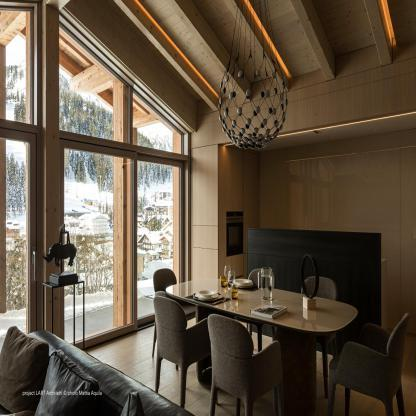chair: (334, 304, 416, 416), (202, 312, 288, 416), (149, 293, 205, 410), (144, 268, 181, 295)
door: (0, 132, 42, 332)
sofa: (0, 324, 199, 416)
table: (168, 277, 356, 416), (44, 279, 89, 335)
